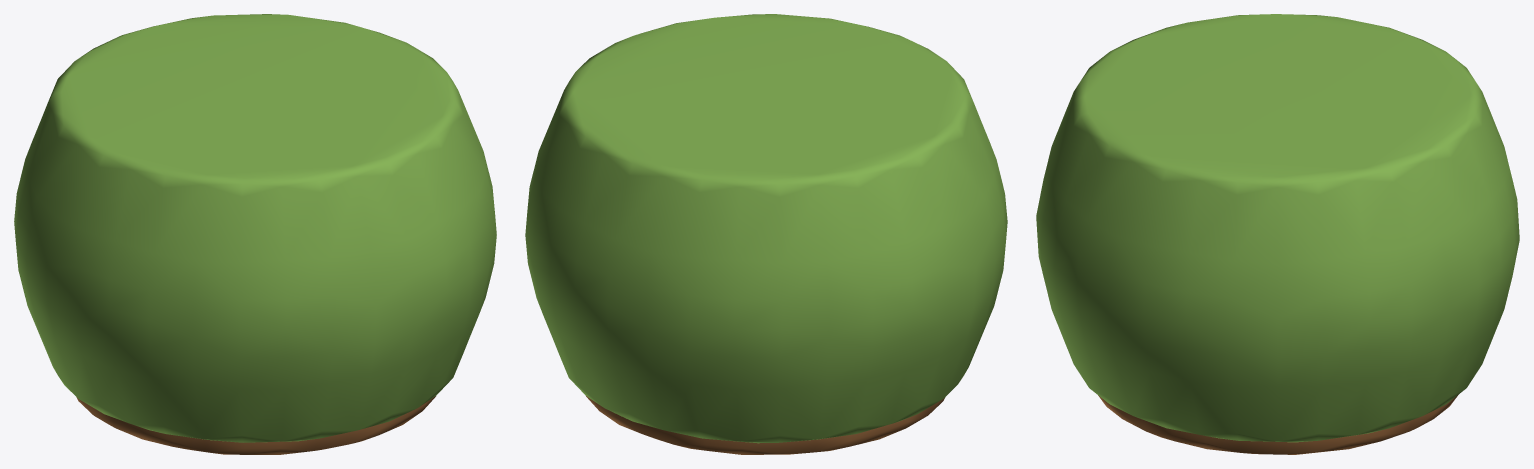
Rendered from stool_05_leather_green.fbx.
The picture shows the model from 3 angles, left to right: view 1: azimuth 30°, elevation 25°; view 2: azimuth 150°, elevation 25°; view 3: azimuth 270°, elevation 25°; orthographic projection.
Parts seen in each view (by area): view 1: stool_05_leather_green; view 2: stool_05_leather_green; view 3: stool_05_leather_green.
Boxes of the visible parts, x1=… form: stool_05_leather_green: x1=14, y1=14, x2=496, y2=454; stool_05_leather_green: x1=525, y1=14, x2=1007, y2=454; stool_05_leather_green: x1=1036, y1=14, x2=1519, y2=454.
Bounding box in the file's own units: 74.92 × 48.55 × 74.92.
2 materials, 2 textured.
